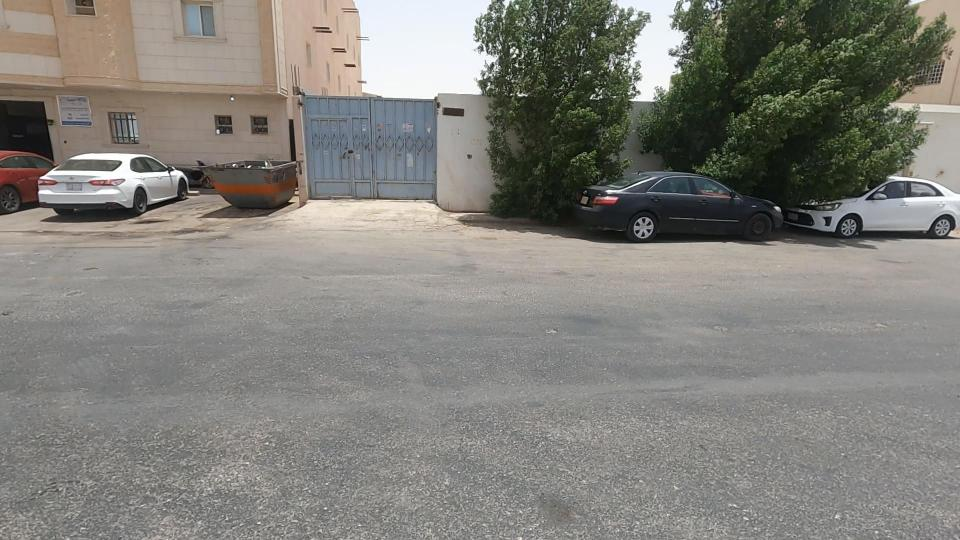GARBAGE: (185, 128, 316, 205)
